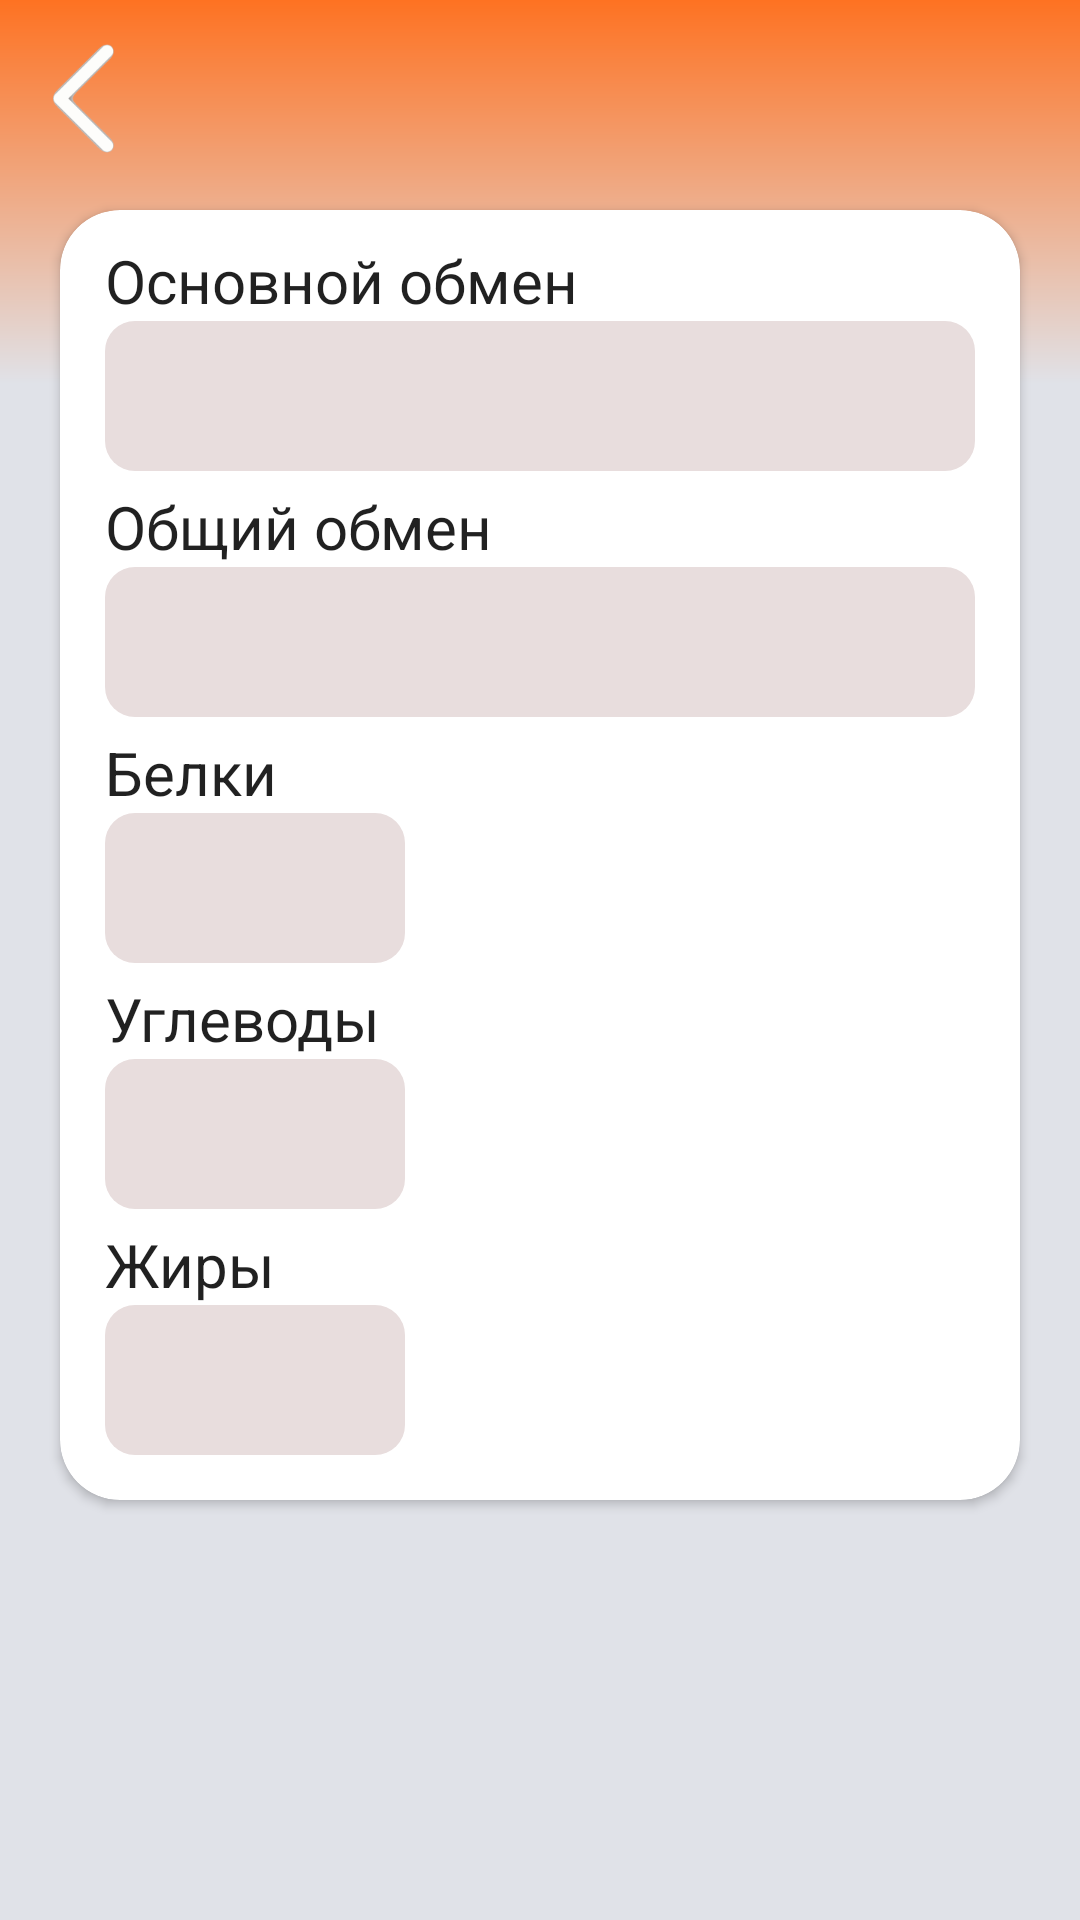

Named icons in this screenshot (1080px x 1920px) and their centers, [x,y]:
back: [82,97]
